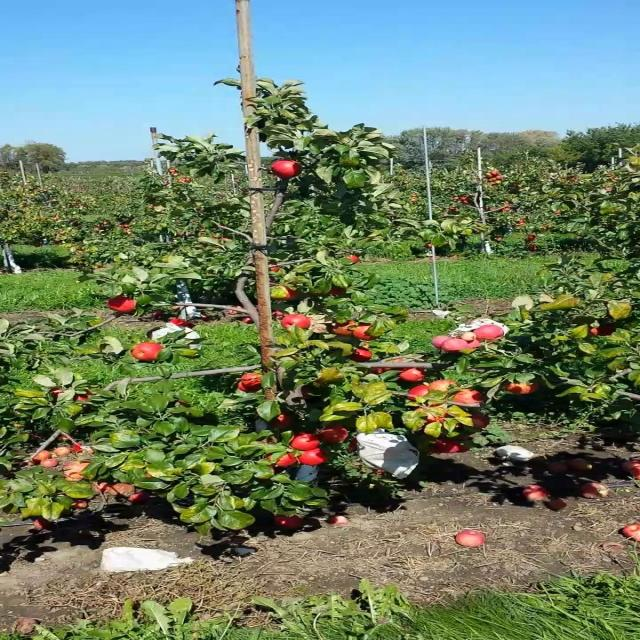apple: (269, 160, 306, 180), (106, 296, 139, 314), (298, 448, 329, 467), (291, 432, 320, 452), (419, 404, 448, 424), (134, 344, 164, 362), (269, 452, 299, 468), (63, 464, 91, 481), (319, 428, 348, 444), (476, 324, 505, 340), (433, 440, 466, 454), (333, 320, 357, 337), (284, 316, 313, 330), (276, 516, 306, 529), (454, 392, 484, 405), (276, 288, 300, 303), (404, 368, 427, 383), (355, 324, 375, 341), (511, 384, 539, 396), (433, 380, 460, 392), (412, 388, 434, 402), (355, 348, 375, 363), (269, 416, 293, 428), (468, 416, 491, 428), (468, 336, 484, 351), (589, 328, 617, 336), (447, 340, 464, 353), (49, 388, 68, 399), (35, 448, 52, 460), (241, 376, 263, 385), (461, 332, 482, 341), (77, 392, 94, 403), (433, 336, 448, 348), (468, 340, 484, 351), (170, 320, 192, 328), (241, 384, 260, 392), (376, 368, 391, 375), (349, 256, 363, 263), (269, 268, 281, 272)
